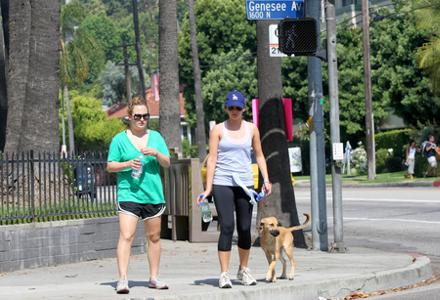person: (196, 92, 272, 287)
